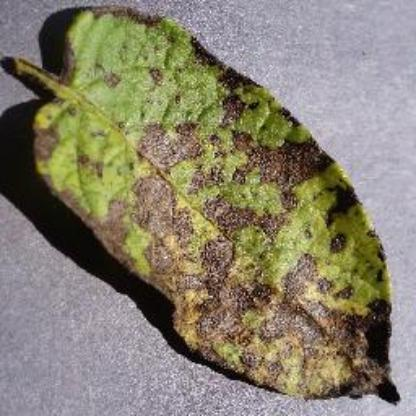Early-Blight: (0, 0, 416, 414)
